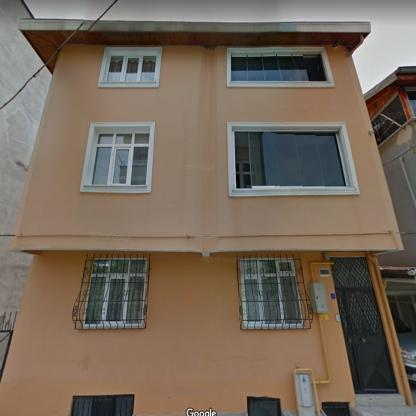door: (330, 257, 397, 392)
window: (233, 131, 346, 188), (84, 259, 147, 325), (241, 260, 301, 324), (92, 132, 150, 184), (231, 53, 328, 81), (370, 95, 408, 145), (105, 54, 157, 81), (72, 397, 132, 415), (249, 401, 279, 415), (406, 91, 416, 117)
